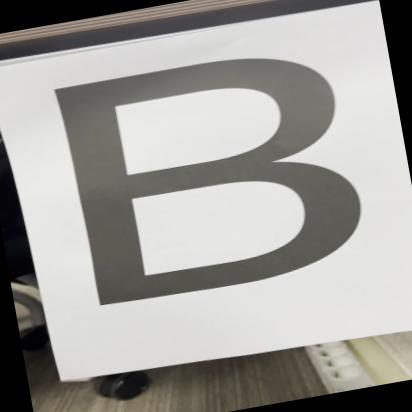seat: (26, 24, 404, 334)
